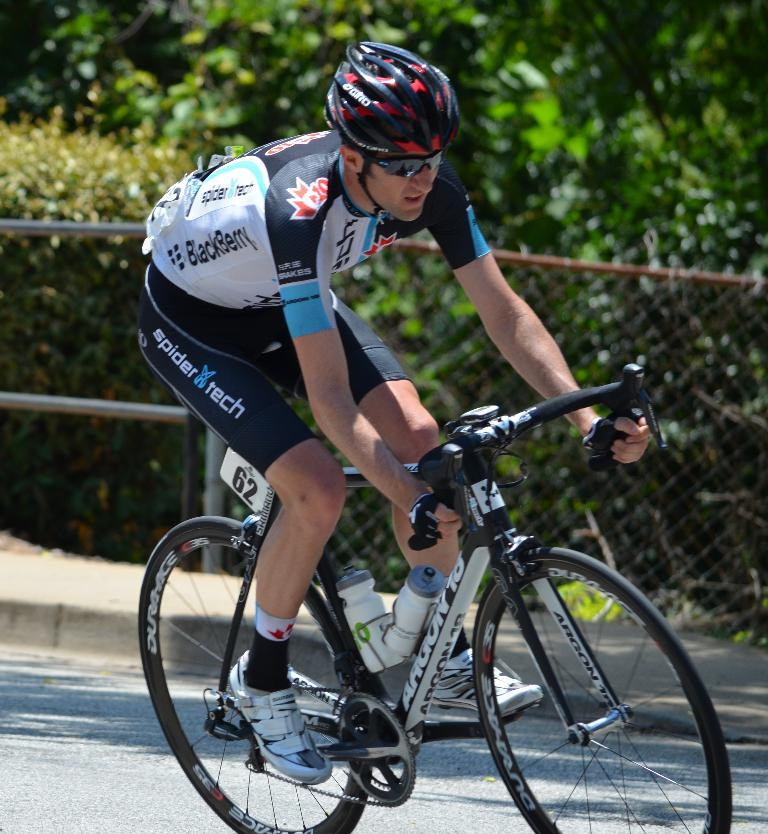Bike_toward: (140, 367, 739, 834)
